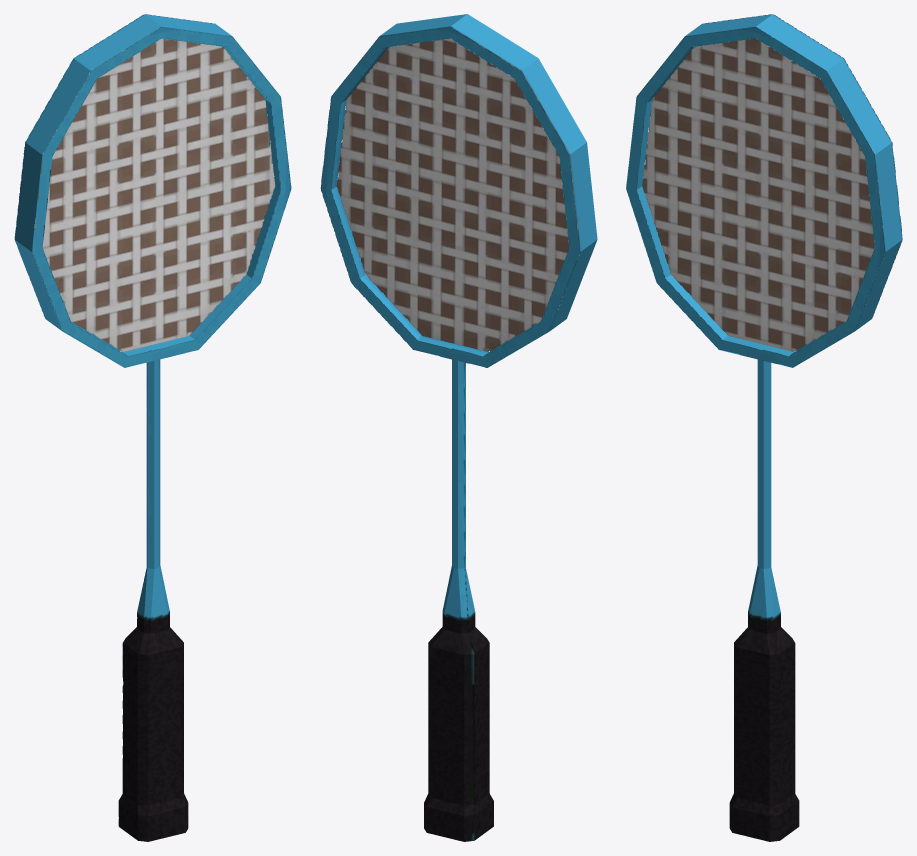
Rendered from BadmintonRacket_Blue.fbx.
3 views of the same model, side by side, from view 1: azimuth 30°, elevation 25°; view 2: azimuth 150°, elevation 25°; view 3: azimuth 330°, elevation 25° (orthographic).
Parts seen in each view (by area): view 1: badminton racket; view 2: badminton racket; view 3: badminton racket.
Part boxes in pixels (left/top/right/bottom): badminton racket: left=14, top=14, right=291, bottom=841; badminton racket: left=320, top=14, right=597, bottom=841; badminton racket: left=626, top=14, right=902, bottom=841.
Size of the model in its own units: 51.54 by 153 by 9.24.
